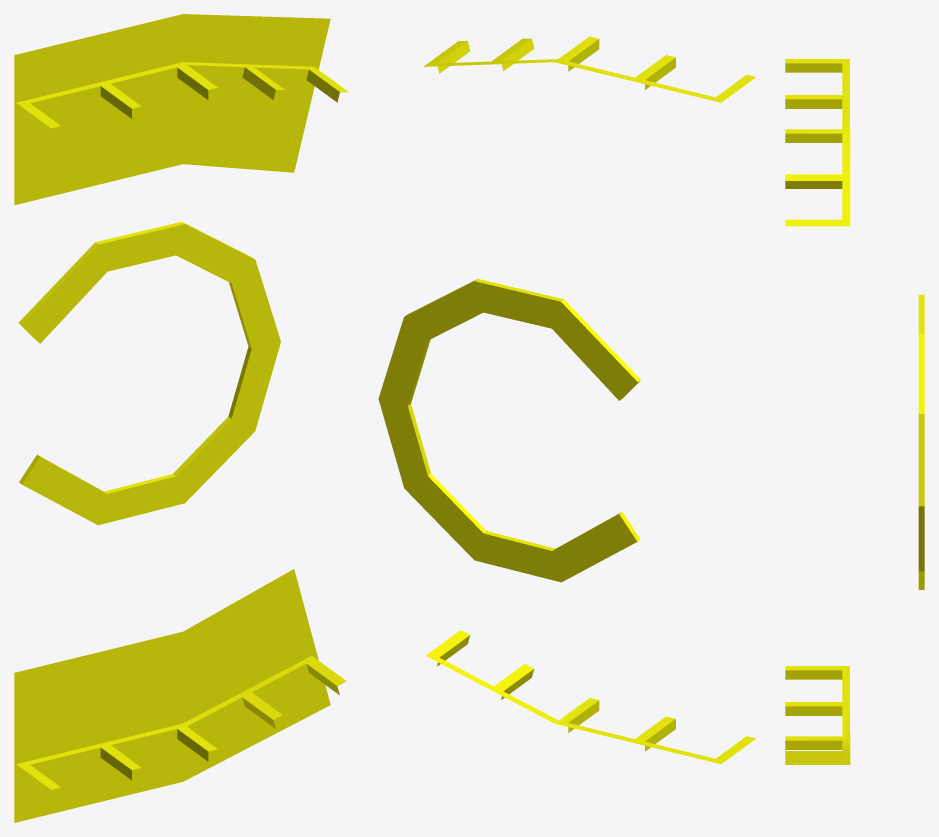
The model's file is columns3.gltf.
3 views of the same model, side by side, from view 1: azimuth 30°, elevation 25°; view 2: azimuth 150°, elevation 25°; view 3: azimuth 270°, elevation 25° (orthographic). The views are drawn at different scales.
Visible parts, largest first — view 1: Box137; view 2: Box137; view 3: Box137.
Boxes of the visible parts, x1,y1,x2,y2 form: Box137: (14, 14, 348, 822); Box137: (378, 36, 755, 764); Box137: (785, 59, 924, 764).
Size of the model in its own units: 39.48 by 91.57 by 16.38.
Materials: 1 (1 with a texture image).
